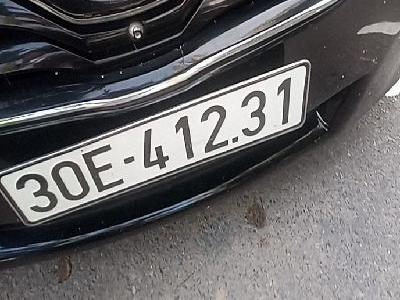number: (1, 61, 312, 225)
